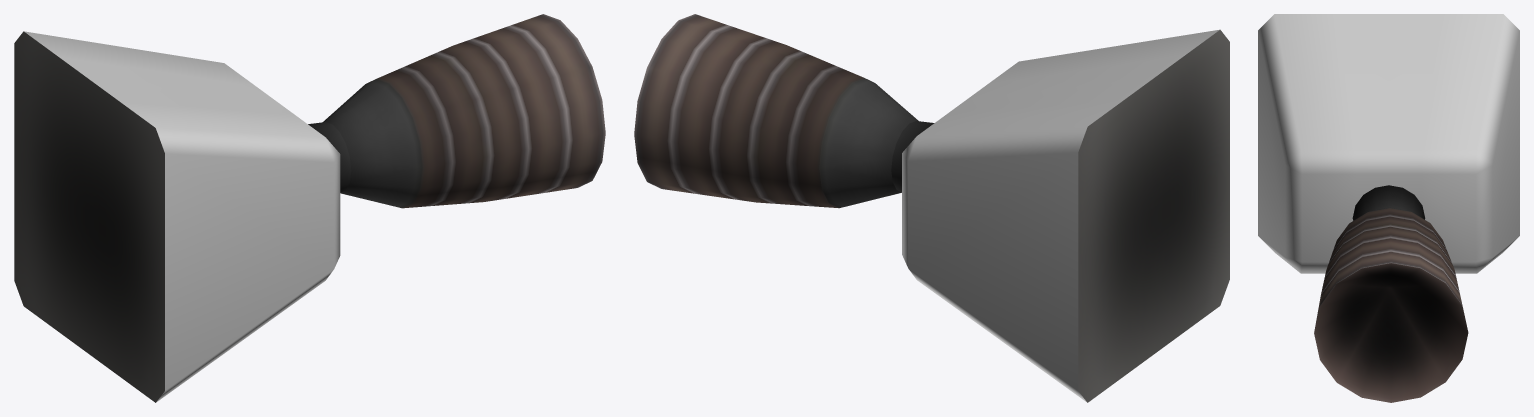
Rendered from Apollo_Block3_LinearRCS2.dae.
3 views of the same model, side by side, from view 1: azimuth 30°, elevation 25°; view 2: azimuth 150°, elevation 25°; view 3: azimuth 270°, elevation 25° (orthographic). The views are drawn at different scales.
Parts seen in each view (by area): view 1: polySurface90, Apollo_rcsBlockLinear4_polySurface91; view 2: polySurface90, Apollo_rcsBlockLinear4_polySurface91, polySurface167; view 3: Apollo_rcsBlockLinear4_polySurface91, polySurface90.
Part boxes in pixels (bbox=[...]): polySurface90: bbox=[14, 14, 605, 402]; Apollo_rcsBlockLinear4_polySurface91: bbox=[24, 31, 340, 402]; polySurface90: bbox=[634, 14, 1229, 402]; Apollo_rcsBlockLinear4_polySurface91: bbox=[902, 29, 1219, 390]; polySurface167: bbox=[909, 140, 1087, 402]; Apollo_rcsBlockLinear4_polySurface91: bbox=[1258, 14, 1519, 273]; polySurface90: bbox=[1314, 185, 1468, 402].
Size of what is drawn, in the model's own units: 0.3244 by 0.1803 by 0.1793.
